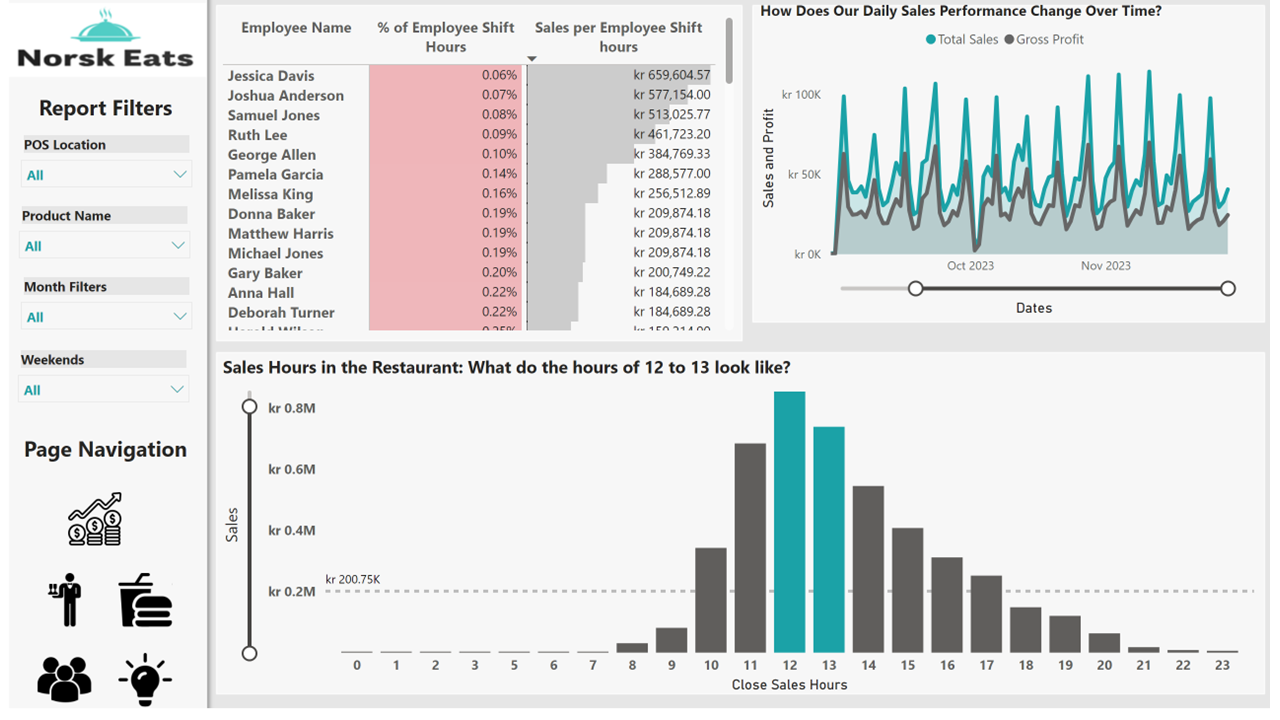

What the dashboard file says about the page in this screenshot:
{"tool":"powerbi","page":{"name":"Employee & Close hours Details 😎","canvas":[1280,720],"ordinal":3},"visuals":[{"type":"clusteredColumnChart","title":"Sales Hours in the Restaurant: What do the hours of 12 to 13 look like?","fields":{"Y":["MeasureTable.Total Sales"],"Category":["SalesFact.Closest hour"]},"box":[213.2,360.3,1055.9,347.1],"z":0},{"type":"pivotTable","fields":{"Rows":["dimEmployee.EmployeeName"],"Values":["MeasureTable.% of Total hours worked by Employees","MeasureTable.Sales per Employee hours"]},"box":[213.2,11.8,527.9,327.9],"z":1000},{"type":"areaChart","title":"How Does Our Daily Sales Performance Change Over Time?","fields":{"Category":["dimCalendar.Dates"],"Y":["MeasureTable.Total Sales","MeasureTable.Gross Profit"]},"box":[758.3,0,510.2,324.6],"z":2000},{"type":"textbox","box":[1.4,435.1,195.6,41.1],"z":3000},{"type":"textbox","box":[1.4,89.3,195.6,41.1],"z":4000},{"type":"slicer","fields":{"Values":["SalesFact.POS"]},"box":[2.8,131.8,194.2,62.4],"z":5000},{"type":"slicer","fields":{"Values":["dimCalendar.Start of Month"]},"box":[2.8,276.4,194.2,62.4],"z":6000},{"type":"slicer","fields":{"Values":["dimProduct.Productname"]},"box":[1.4,204.1,194.2,62.4],"z":7000},{"type":"slicer","fields":{"Values":["dimCalendar.Weekend"]},"box":[0,350.1,194.2,62.4],"z":8000},{"type":"actionButton","box":[56.7,494.6,62,62],"z":9000},{"type":"actionButton","box":[25.5,576.9,62.4,62.4],"z":10000},{"type":"actionButton","box":[107.7,576.9,62.4,62.4],"z":11000},{"type":"actionButton","box":[25.5,657.6,62.4,62.4],"z":12000},{"type":"actionButton","box":[107.7,657.6,62.4,62.4],"z":13000}]}

Visuals, with their boxes on the page's 1280x720 design canvas (x1, y1, x2, y2). These are canvas units, not pixel positions in the 1280x720 screenshot, which may show the page scaled, cropped or inside an application window:
"Sales Hours in the Restaurant: What do the hours of 12 to 13 look like?" clusteredColumnChart: box(213, 360, 1269, 707)
pivotTable - dimEmployee.EmployeeName x MeasureTable.% of Total hours worked by Employees: box(213, 12, 741, 340)
"How Does Our Daily Sales Performance Change Over Time?" areaChart: box(758, 0, 1268, 325)
textbox: box(1, 435, 197, 476)
textbox: box(1, 89, 197, 130)
slicer - SalesFact.POS: box(3, 132, 197, 194)
slicer - dimCalendar.Start of Month: box(3, 276, 197, 339)
slicer - dimProduct.Productname: box(1, 204, 196, 266)
slicer - dimCalendar.Weekend: box(0, 350, 194, 412)
actionButton: box(57, 495, 119, 557)
actionButton: box(26, 577, 88, 639)
actionButton: box(108, 577, 170, 639)
actionButton: box(26, 658, 88, 720)
actionButton: box(108, 658, 170, 720)
